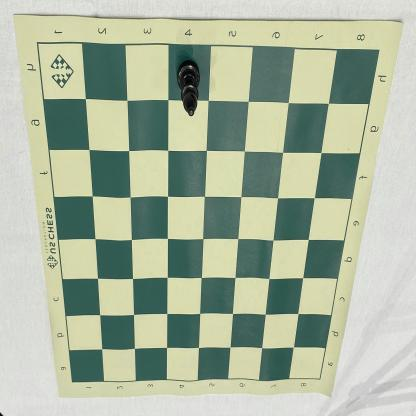black-bishop: (176, 60, 200, 116)
